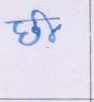i_matra: (34, 9, 60, 43)
